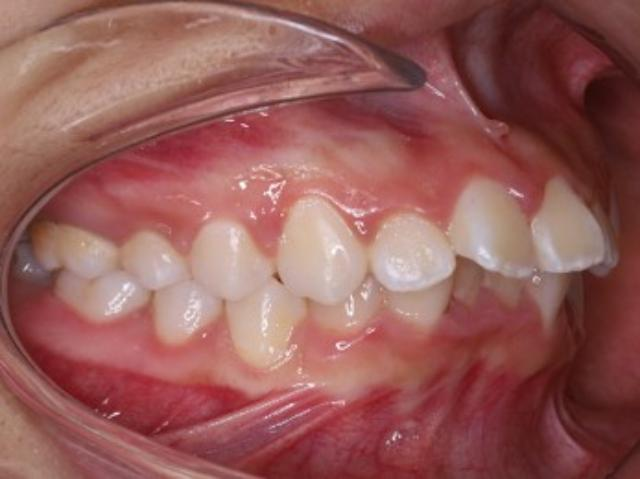canine class II 1/4: (227, 194, 387, 380)
molar class I: (24, 217, 150, 333)
